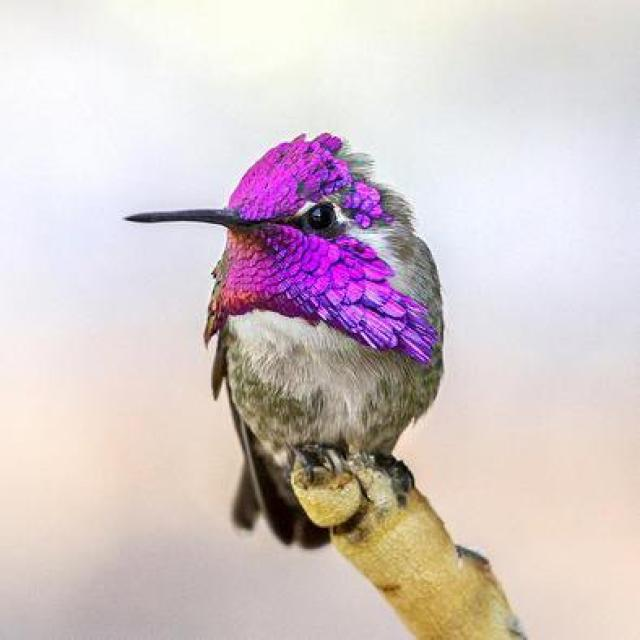Humming Bird: (123, 111, 456, 515)
